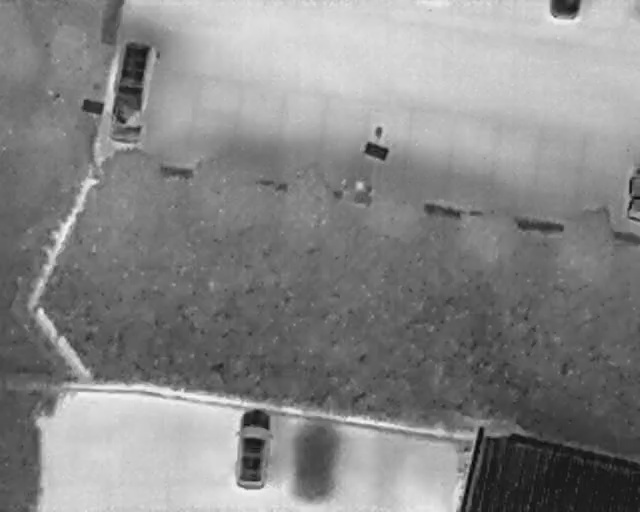Car: (104, 39, 156, 147), (231, 405, 274, 492), (547, 0, 583, 21)
